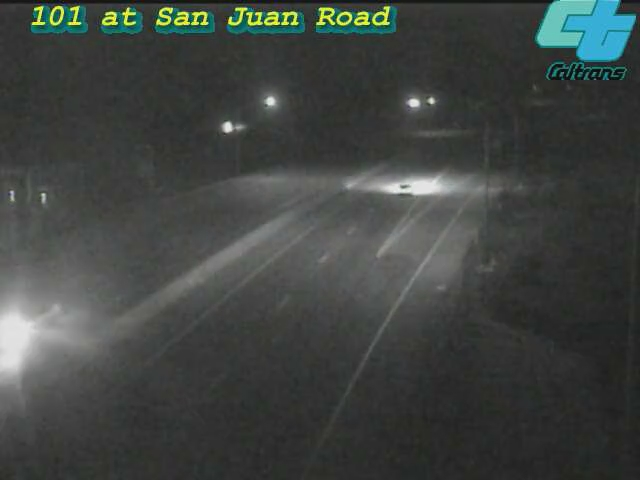vehicle: (1, 282, 61, 392), (360, 154, 440, 234)
